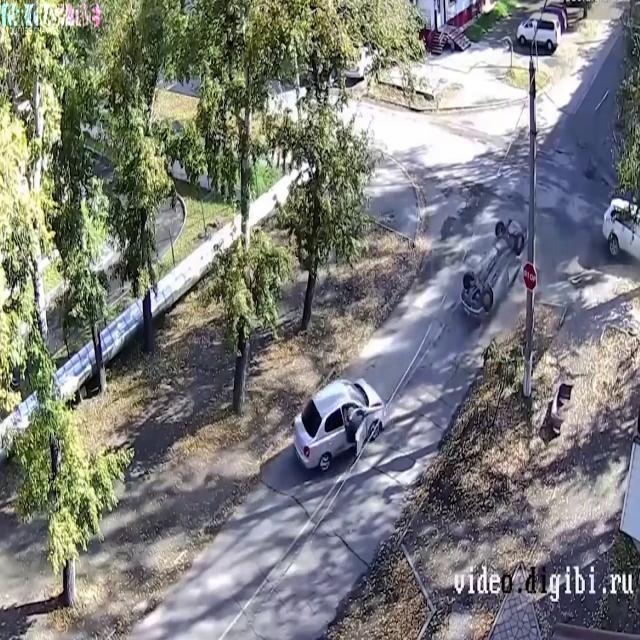Accident: (278, 333, 386, 488), (452, 198, 534, 337)
